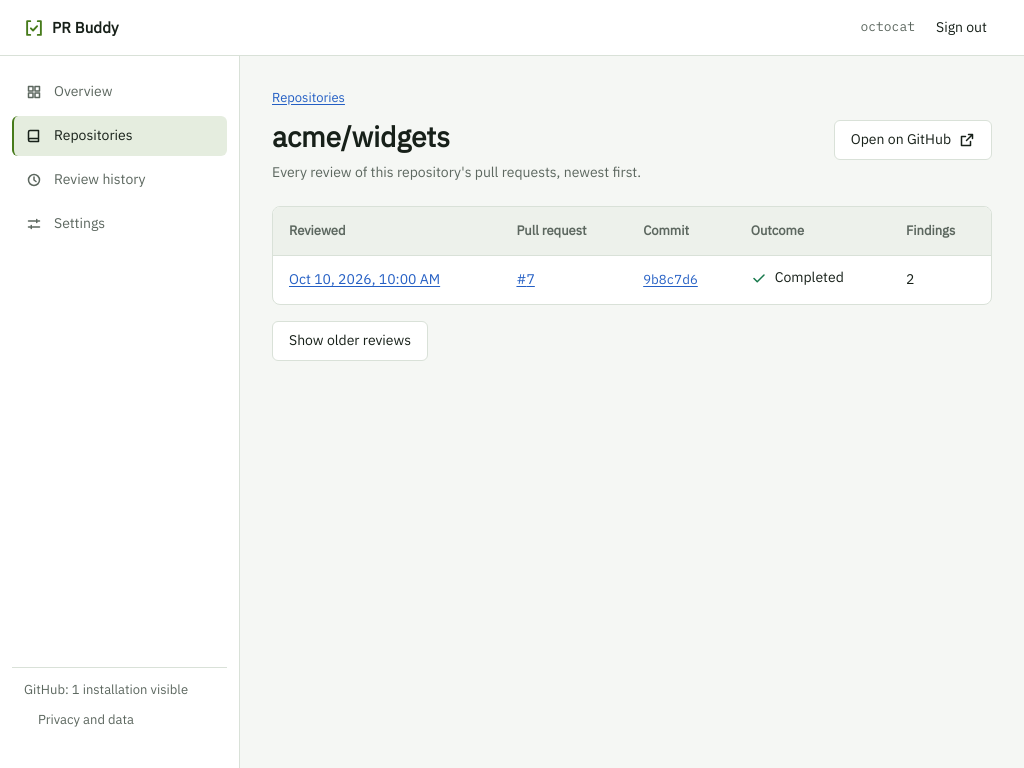
Scenario: one repository › keeps what is shown and reports it when older reviews cannot be loaded
This screenshot has width=1024, height=768.
Click the button "Show older reviews": (350, 340) [272,320,428,360]
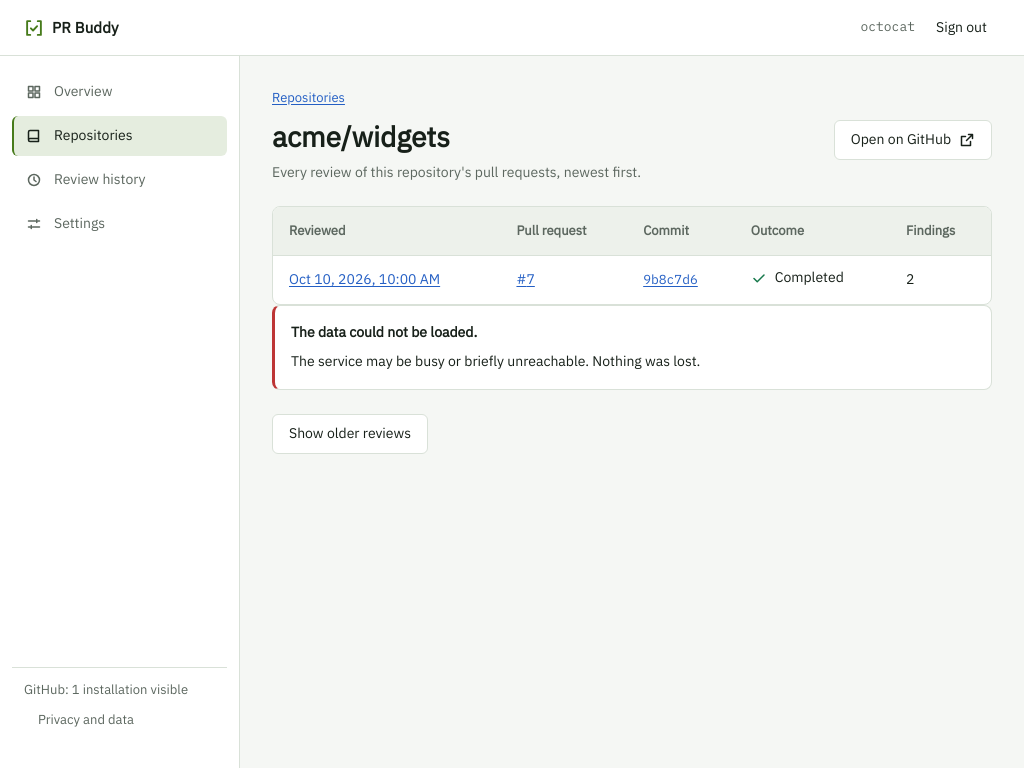
Expected: the link "#7" is shown, [516,270,535,288]
Now the message shows "The data could not be loaded.", box [291,322,477,340]
